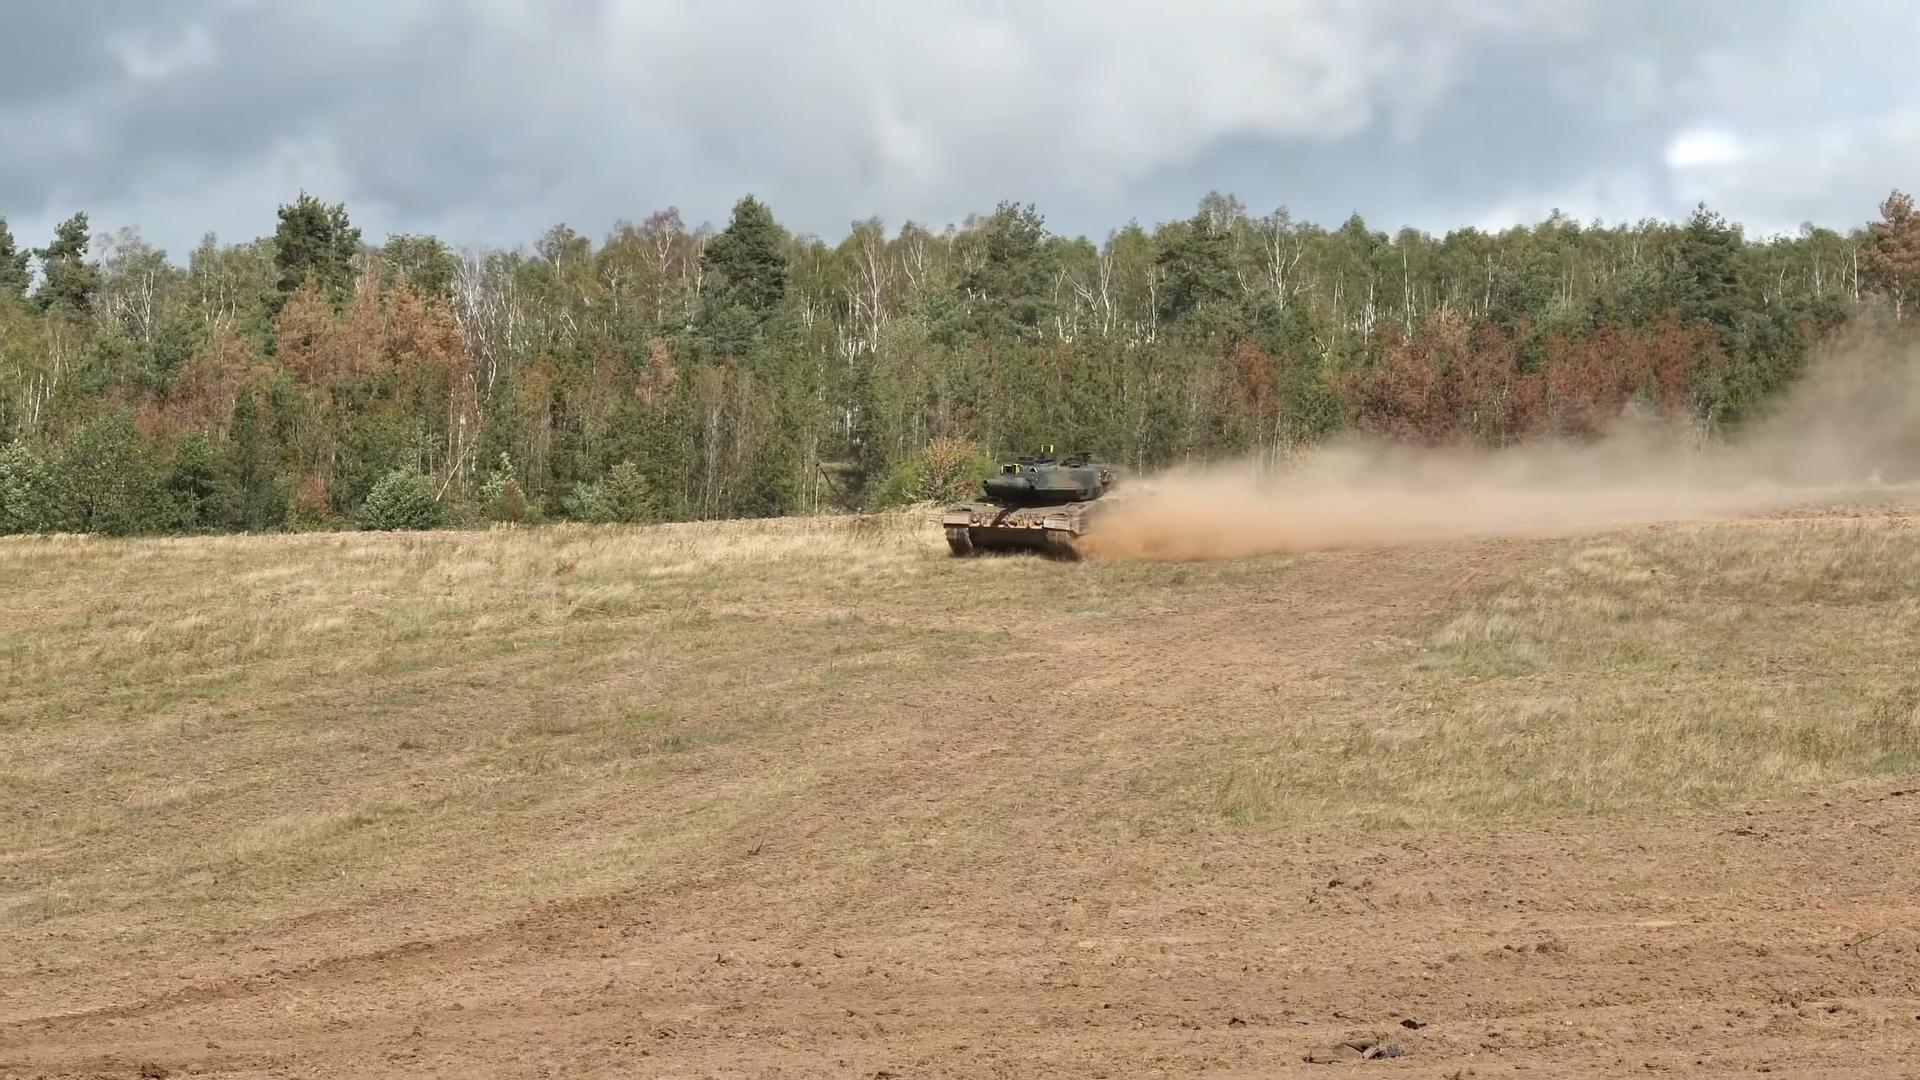tank: (943, 444, 1117, 559)
